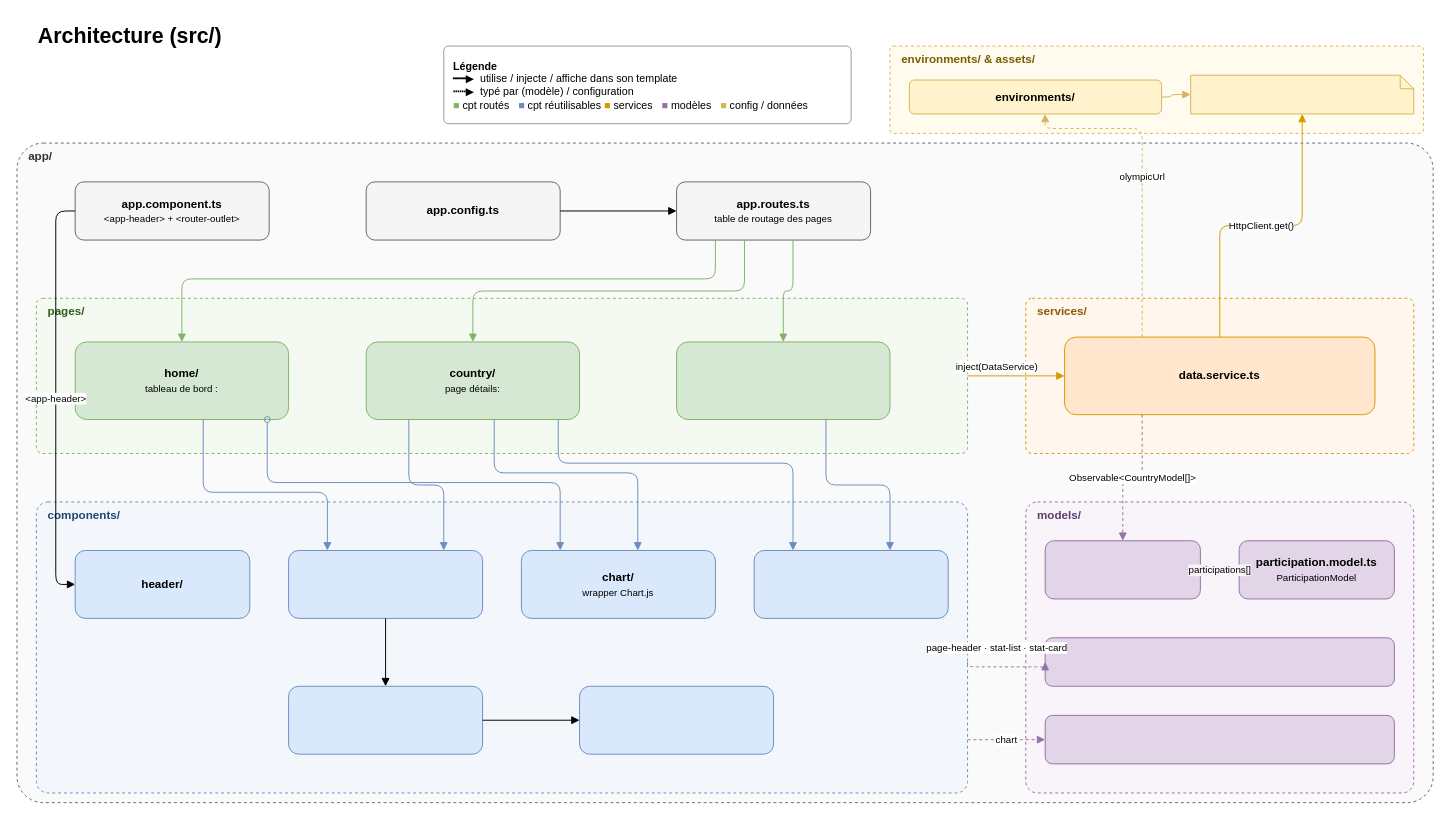
The diagram is 1450 pixels wide and 820 high, and some of its shapes have lost their labels. The centre of each missing label's shape, as x and y in pixels:
assets/mock/olympic.json: the point at 1302,94
back-button/: the point at 850,584
chart-config.ts — ChartConfig: the point at 1219,739
country.model.ts CountryModel: the point at 1122,569
not-found/ page 404: the point at 783,380
page-header/: the point at 385,584
stat-card/: the point at 676,719
stat-list/: the point at 385,719
stat.model.ts — StatModel: the point at 1219,661
